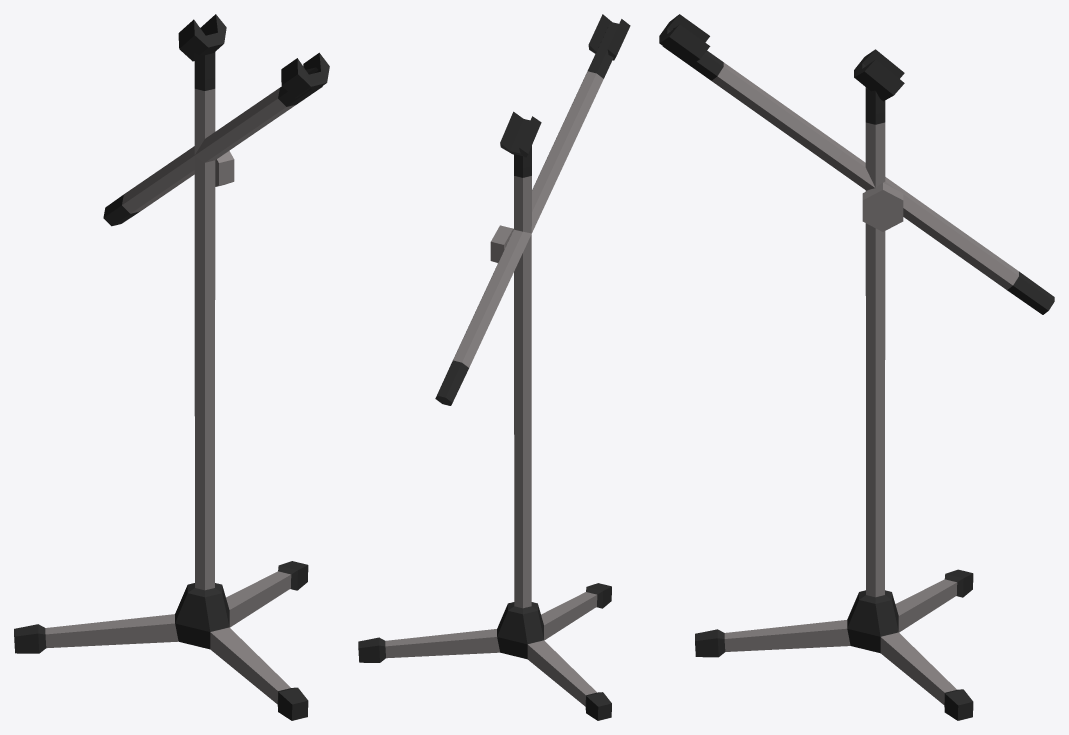
Rendered from microphone-stand.glb.
3 views of the same model, side by side, from view 1: azimuth 30°, elevation 25°; view 2: azimuth 150°, elevation 25°; view 3: azimuth 270°, elevation 25° (orthographic). The views are drawn at different scales.
Parts seen in each view (by area): view 1: microphone-stand; view 2: microphone-stand; view 3: microphone-stand.
Part boxes in pixels (bbox=[...]): microphone-stand: bbox=[14, 14, 329, 720]; microphone-stand: bbox=[358, 14, 630, 720]; microphone-stand: bbox=[659, 14, 1054, 720].
Size of the model in its own units: 0.6461 by 1.41 by 0.7942.
1 material, 1 textured.
